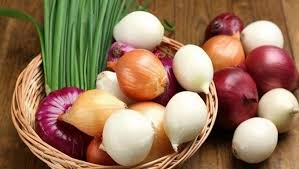Onion: (115, 49, 170, 103), (62, 90, 127, 134)
